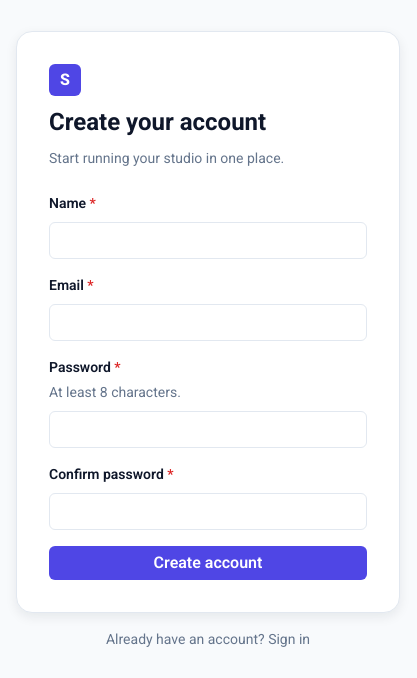
Test: SignupPage › reports mismatched passwords on the confirmation field
Expected: the heading "Create your account" is shown, [49,108,266,136]
Type "New Person" into the field labelled "Name" at (208, 240), box [49,222,367,258]
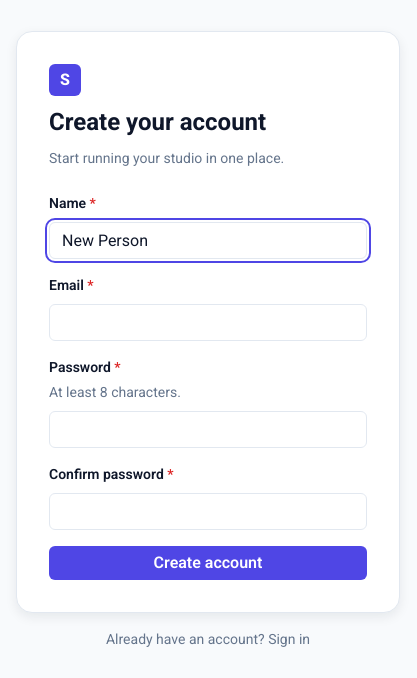
Type "new@studio.test" into the field labelled "Email" at (208, 322), box [49,304,367,340]
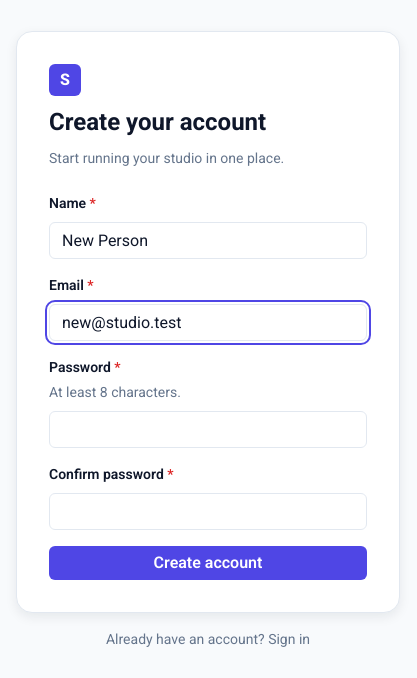
Type "longenough" into the password field labelled "Password" at (208, 429), box [49,410,367,448]
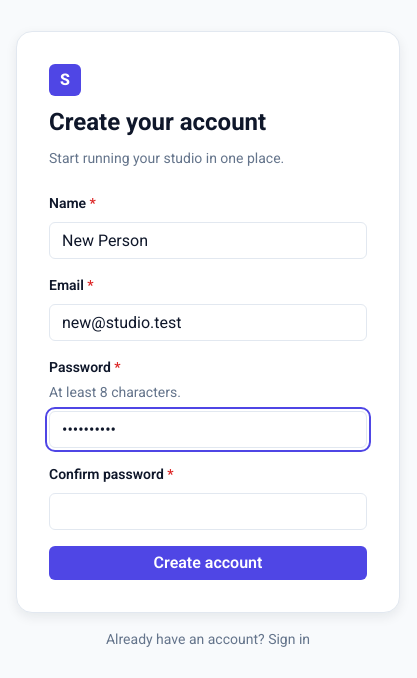
Type "different" into the password field labelled "Confirm password" at (208, 511), box [49,492,367,530]
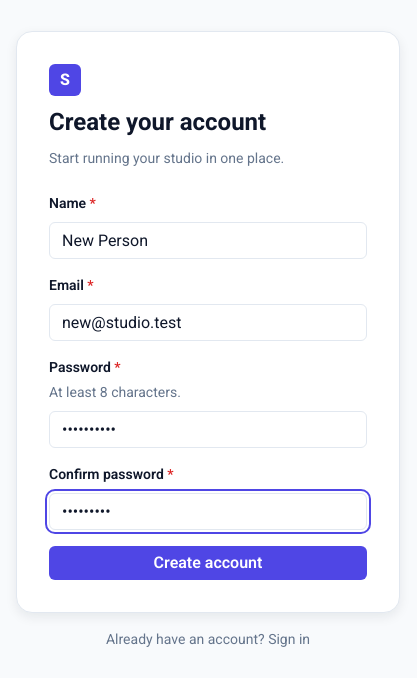
Click the button "Create account" at (208, 562), box [49,546,367,580]
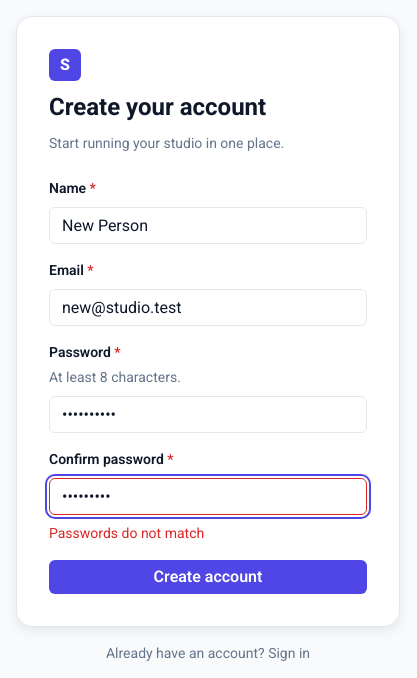
Expected: the text "Passwords do not match" is shown, [49,525,204,541]
